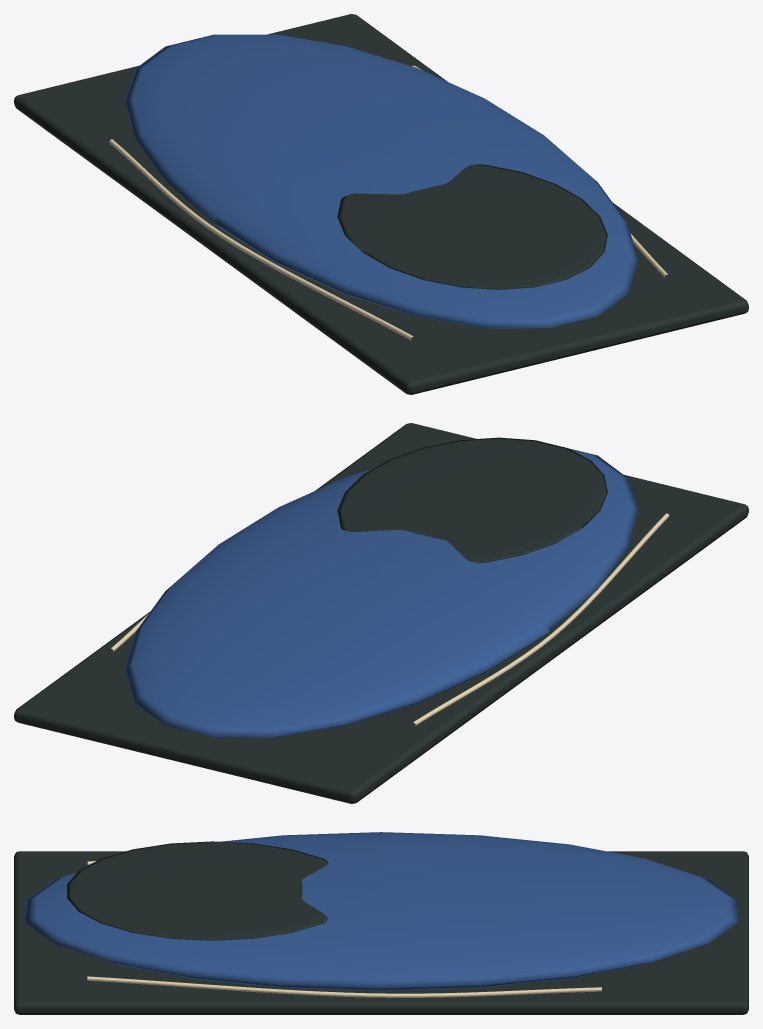
File: breakfast-slipper.glb
3 views of the same model, one above another, from view 1: azimuth 30°, elevation 25°; view 2: azimuth 150°, elevation 25°; view 3: azimuth 270°, elevation 25° (orthographic). The views are drawn at different scales.
Visible parts, largest first — view 1: blue, dark, cream; view 2: blue, dark, cream; view 3: blue, dark, cream.
Part boxes in pixels (bbox=[...]): blue: bbox=[124, 34, 638, 328]; dark: bbox=[14, 14, 748, 394]; cream: bbox=[109, 65, 667, 340]; blue: bbox=[124, 448, 638, 737]; dark: bbox=[14, 423, 748, 803]; cream: bbox=[111, 513, 669, 725]; blue: bbox=[25, 832, 737, 991]; dark: bbox=[14, 841, 748, 1014]; cream: bbox=[87, 861, 601, 997].
Size of the model in its own units: 3 by 0.46 by 6.
